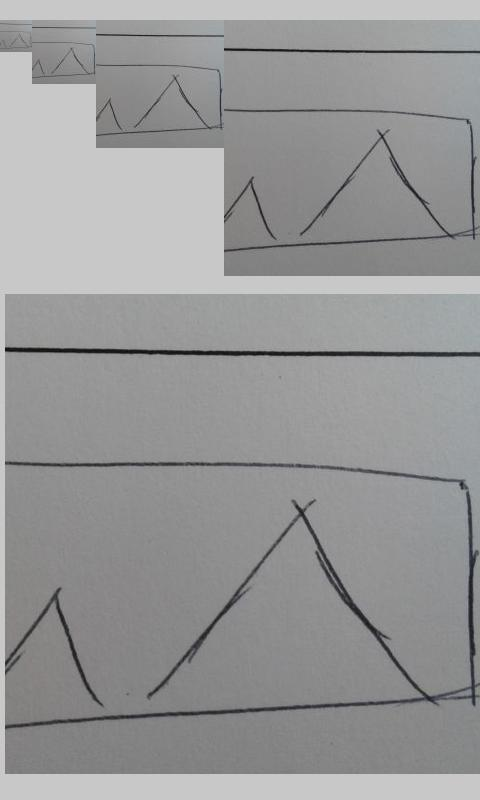image_view: (14, 453, 479, 733), (228, 105, 476, 256), (98, 59, 224, 136), (33, 41, 95, 78), (1, 30, 32, 50)
